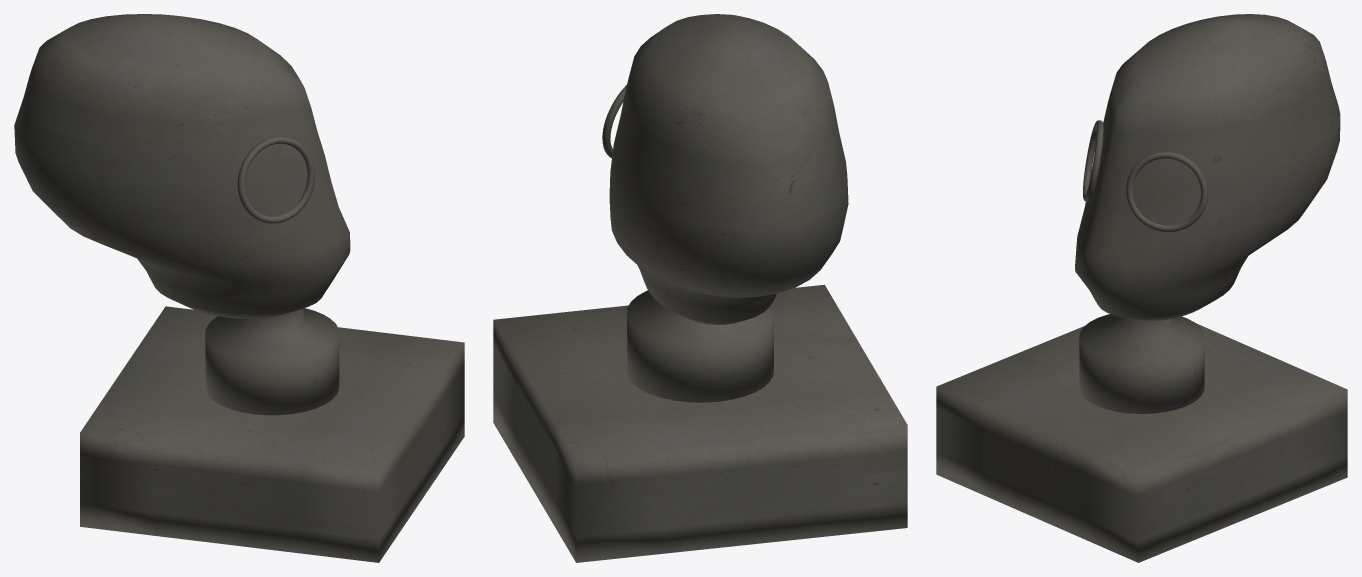
The model's file is objekts1.glb.
3 views of the same model, side by side, from view 1: azimuth 30°, elevation 25°; view 2: azimuth 150°, elevation 25°; view 3: azimuth 270°, elevation 25° (orthographic). The views are drawn at different scales.
Visible parts, largest first — view 1: Sphere.001, Cube.019, Cylinder.004; view 2: Cube.019, Sphere.001, Cylinder.004; view 3: Cube.019, Sphere.001, Cylinder.004.
Boxes of the visible parts, x1=… form: Sphere.001: x1=14, y1=14, x2=350, y2=318; Cube.019: x1=80, y1=306, x2=464, y2=562; Cylinder.004: x1=205, y1=308, x2=339, y2=415; Cube.019: x1=493, y1=284, x2=907, y2=562; Sphere.001: x1=602, y1=14, x2=848, y2=325; Cylinder.004: x1=627, y1=290, x2=773, y2=402; Cube.019: x1=936, y1=323, x2=1347, y2=562; Sphere.001: x1=1075, y1=14, x2=1340, y2=320; Cylinder.004: x1=1079, y1=314, x2=1204, y2=413.
Size of the model in its own units: 1.79 by 2.01 by 1.79.
Materials: 2 (2 with a texture image).
